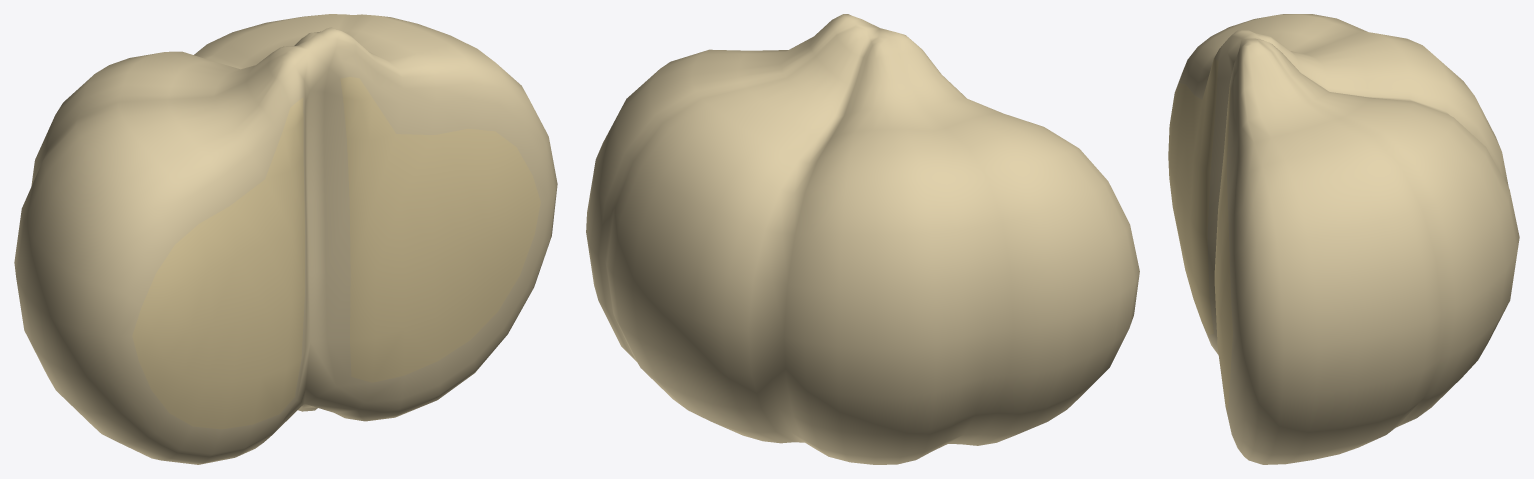
The model's file is Garlicclove_03.dae.
The picture shows the model from 3 angles, left to right: view 1: azimuth 30°, elevation 25°; view 2: azimuth 150°, elevation 25°; view 3: azimuth 270°, elevation 25°; orthographic projection. The views are drawn at different scales.
Parts seen in each view (by area): view 1: Garlicclove_03_LOD0; view 2: Garlicclove_03_LOD0; view 3: Garlicclove_03_LOD0.
Part boxes in pixels (bbox=[...]): Garlicclove_03_LOD0: bbox=[14, 14, 557, 464]; Garlicclove_03_LOD0: bbox=[586, 14, 1139, 464]; Garlicclove_03_LOD0: bbox=[1168, 14, 1519, 464].
Size of what is drawn, in the model's own units: 4.49 by 2.79 by 3.33.
